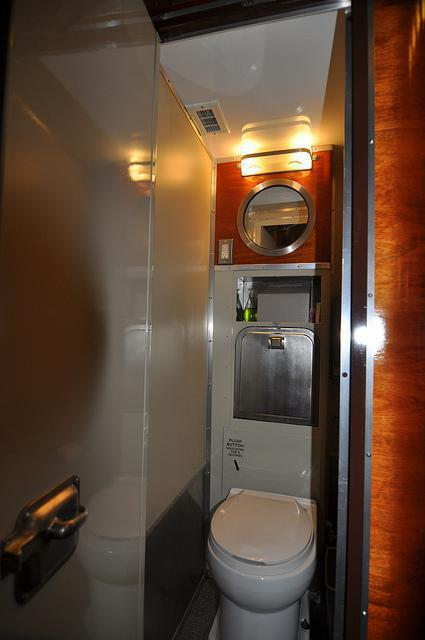Sanitario: (195, 473, 321, 638)
